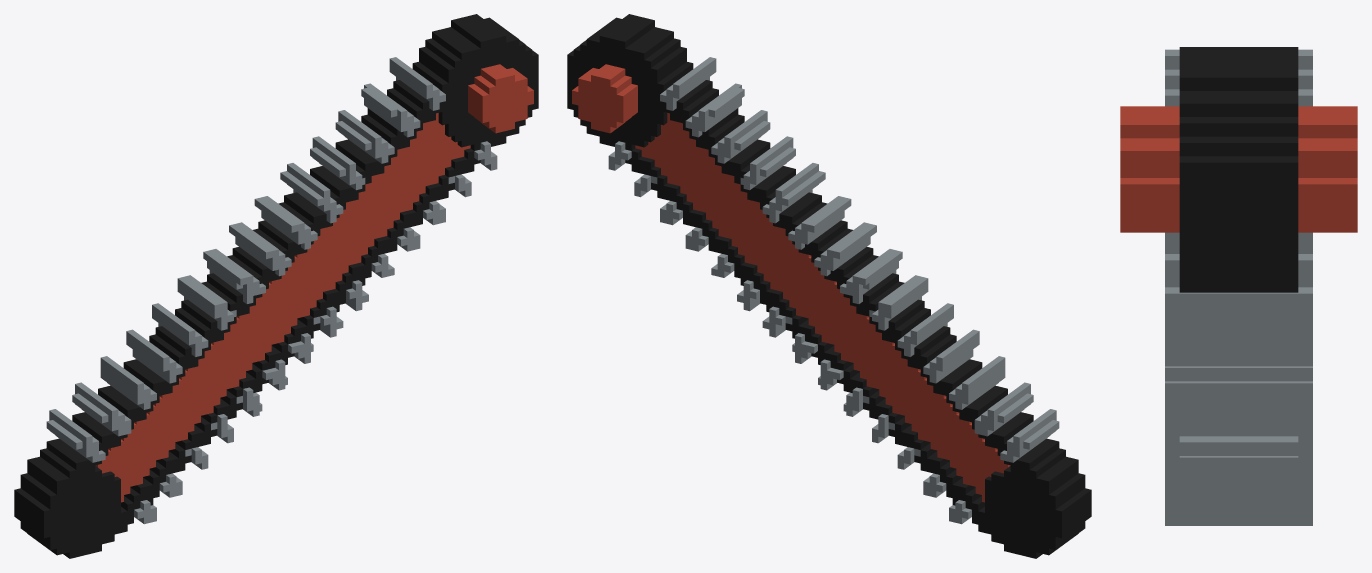
The model's file is trencher_digging_boom.glb.
3 views of the same model, side by side, from view 1: azimuth 30°, elevation 25°; view 2: azimuth 150°, elevation 25°; view 3: azimuth 270°, elevation 25° (orthographic). The views are drawn at different scales.
Visible parts, largest first — view 1: body:compound; view 2: body:compound; view 3: body:compound.
Boxes of the visible parts, x1,y1,x2,y2 form: body:compound: (14,14,538,558); body:compound: (567,14,1091,558); body:compound: (1120,47,1357,525).
Bounding box in the file's own units: 2.41 × 1.94 × 0.5.
